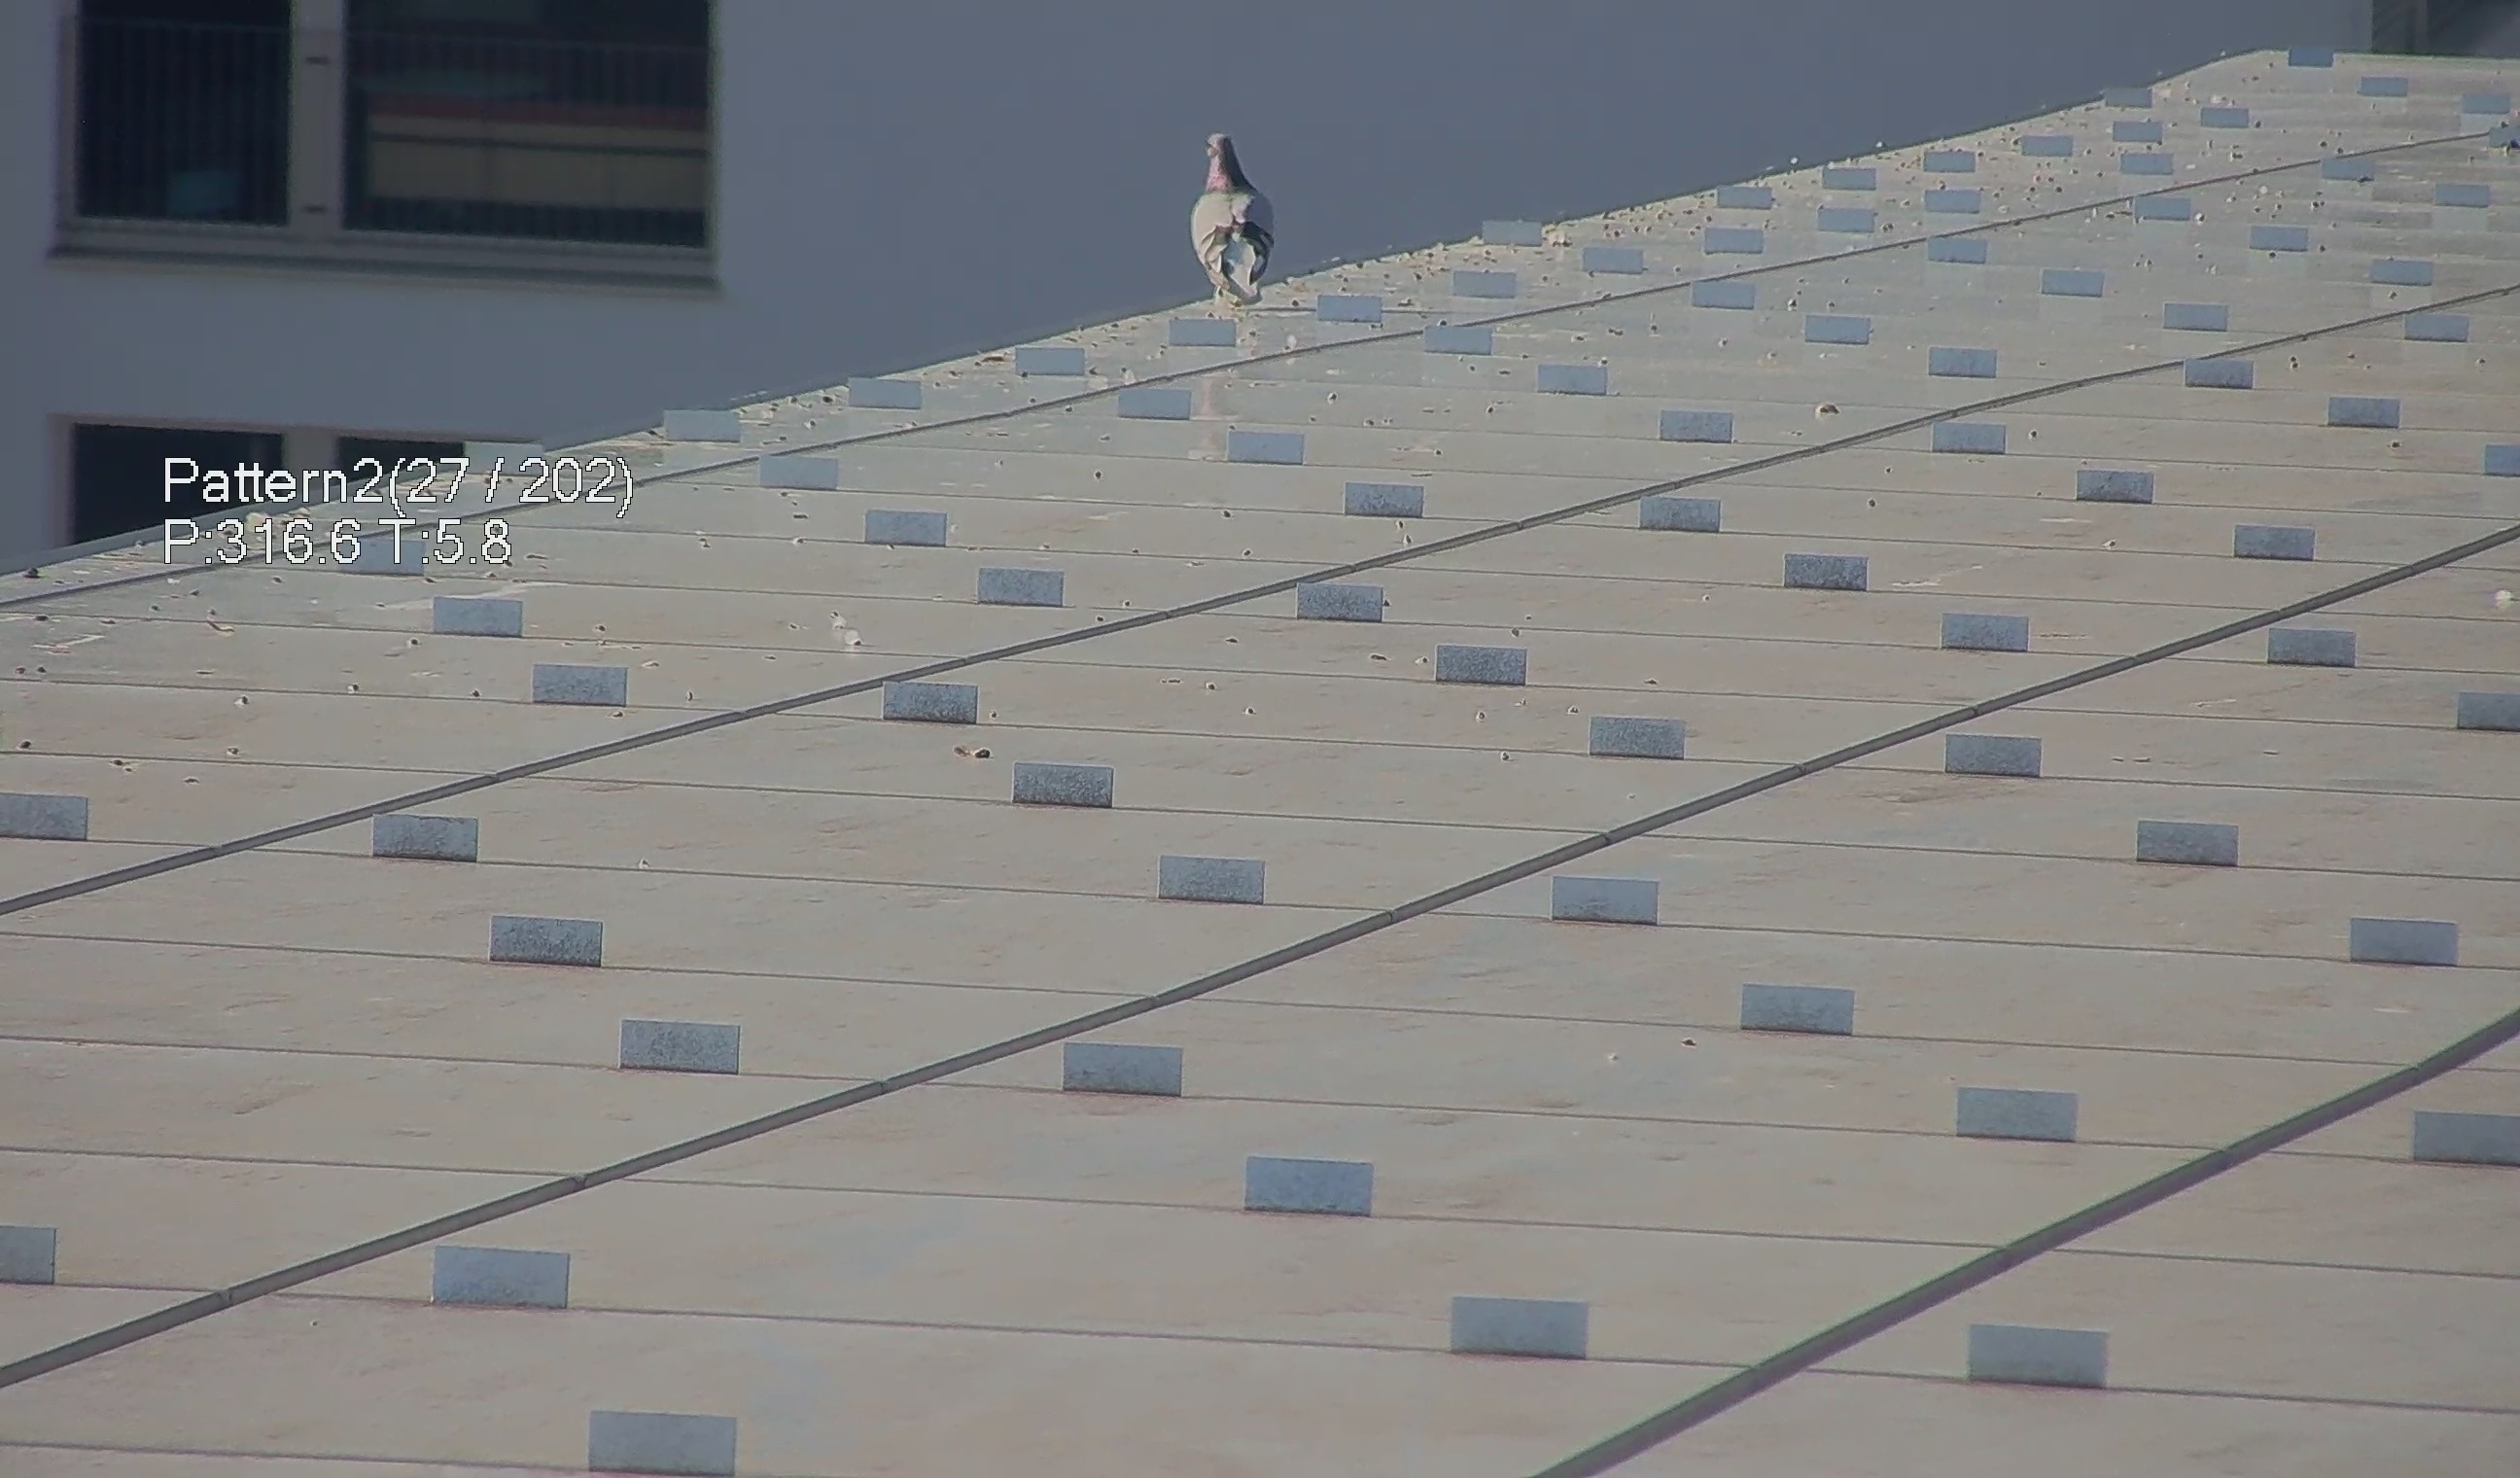Pigeon: (1173, 121, 1280, 311)
